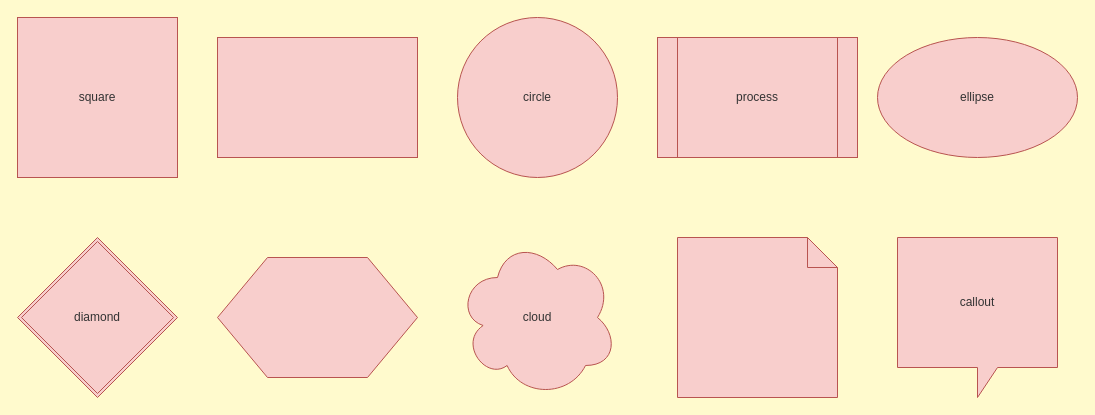
Image size: 1095x415. Some labels were removed from this diagram. The shapes that lost their labels are listed below. From the top down, each one's centre as x and y in pixels, then its label:
At (317,97): "rectangle".
At (317,317): "hexagon".
At (757,317): "note".
